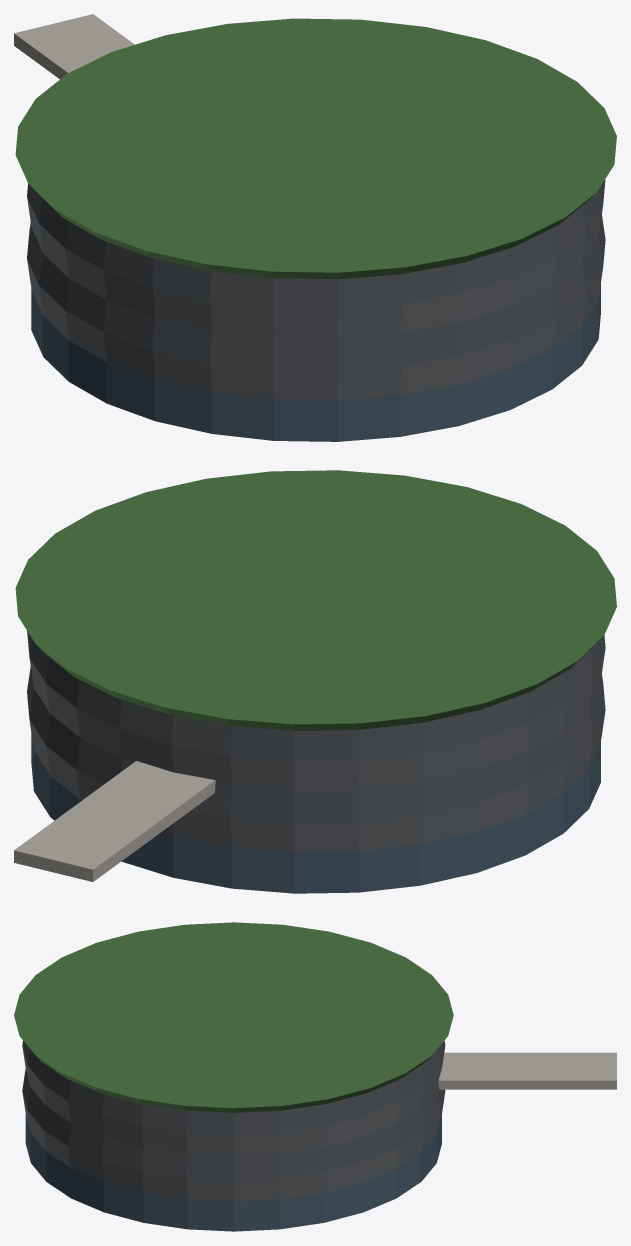
File: ocean_pavilion.glb
The picture shows the model from 3 angles, top to bottom: view 1: azimuth 30°, elevation 25°; view 2: azimuth 150°, elevation 25°; view 3: azimuth 270°, elevation 25°; orthographic projection. The views are drawn at different scales.
Parts seen in each view (by area): view 1: ocean_pavilion; view 2: ocean_pavilion; view 3: ocean_pavilion.
Part boxes in pixels (box(x1,y1,x2,y2)): ocean_pavilion: box(14, 14, 616, 441); ocean_pavilion: box(14, 470, 616, 893); ocean_pavilion: box(14, 922, 616, 1231).
Bounding box in the file's own units: 52.8 × 17 × 72.4.
1 material, 1 textured.
